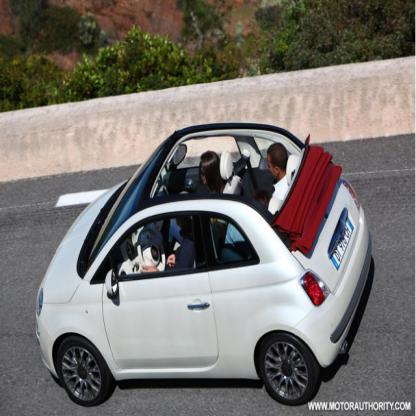Vehicle: (35, 123, 375, 410)
